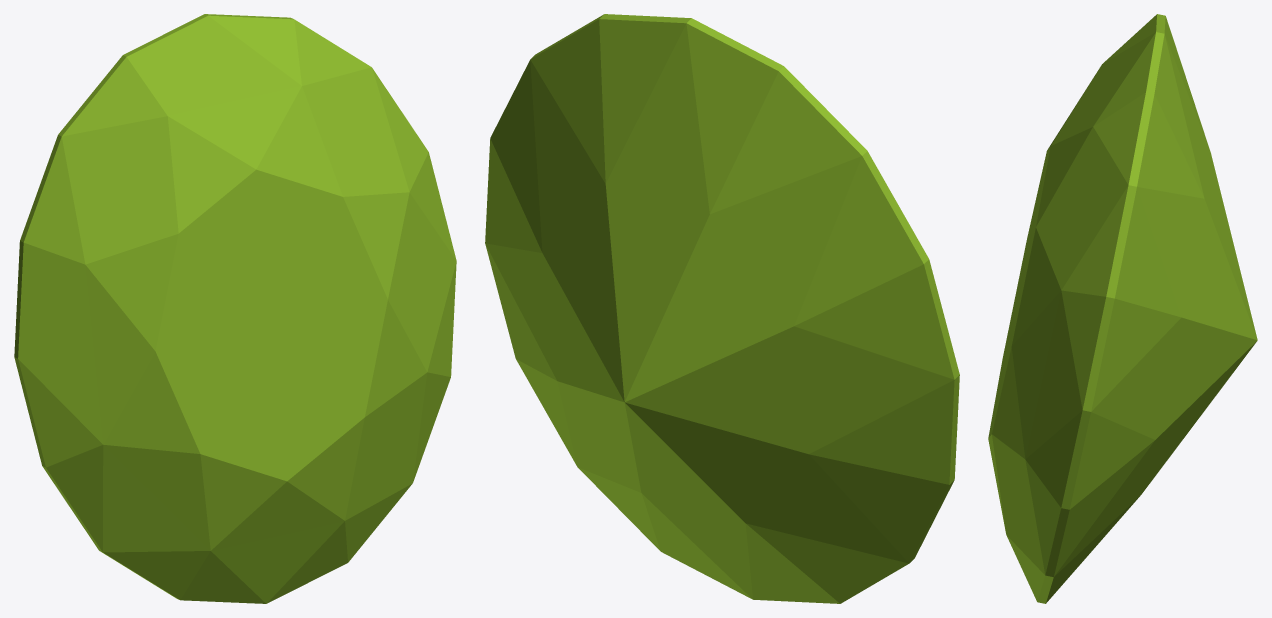
Rendered from peridot.glb.
The picture shows the model from 3 angles, left to right: view 1: azimuth 30°, elevation 25°; view 2: azimuth 150°, elevation 25°; view 3: azimuth 270°, elevation 25°; orthographic projection. The views are drawn at different scales.
Parts seen in each view (by area): view 1: peridot; view 2: peridot; view 3: peridot.
Boxes of the visible parts, <box> form: peridot: <box>14,14,456,603</box>; peridot: <box>485,14,959,603</box>; peridot: <box>988,14,1257,603</box>.
Size of the model in its own units: 1.88 by 2.31 by 1.02.
